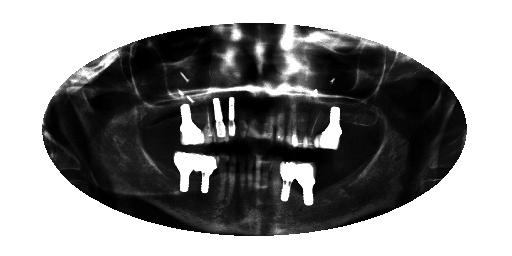otra: (319, 106, 343, 149), (196, 152, 220, 194), (180, 104, 204, 145), (173, 151, 196, 193), (295, 163, 316, 206), (211, 97, 228, 140), (280, 160, 295, 202), (226, 97, 240, 138)
